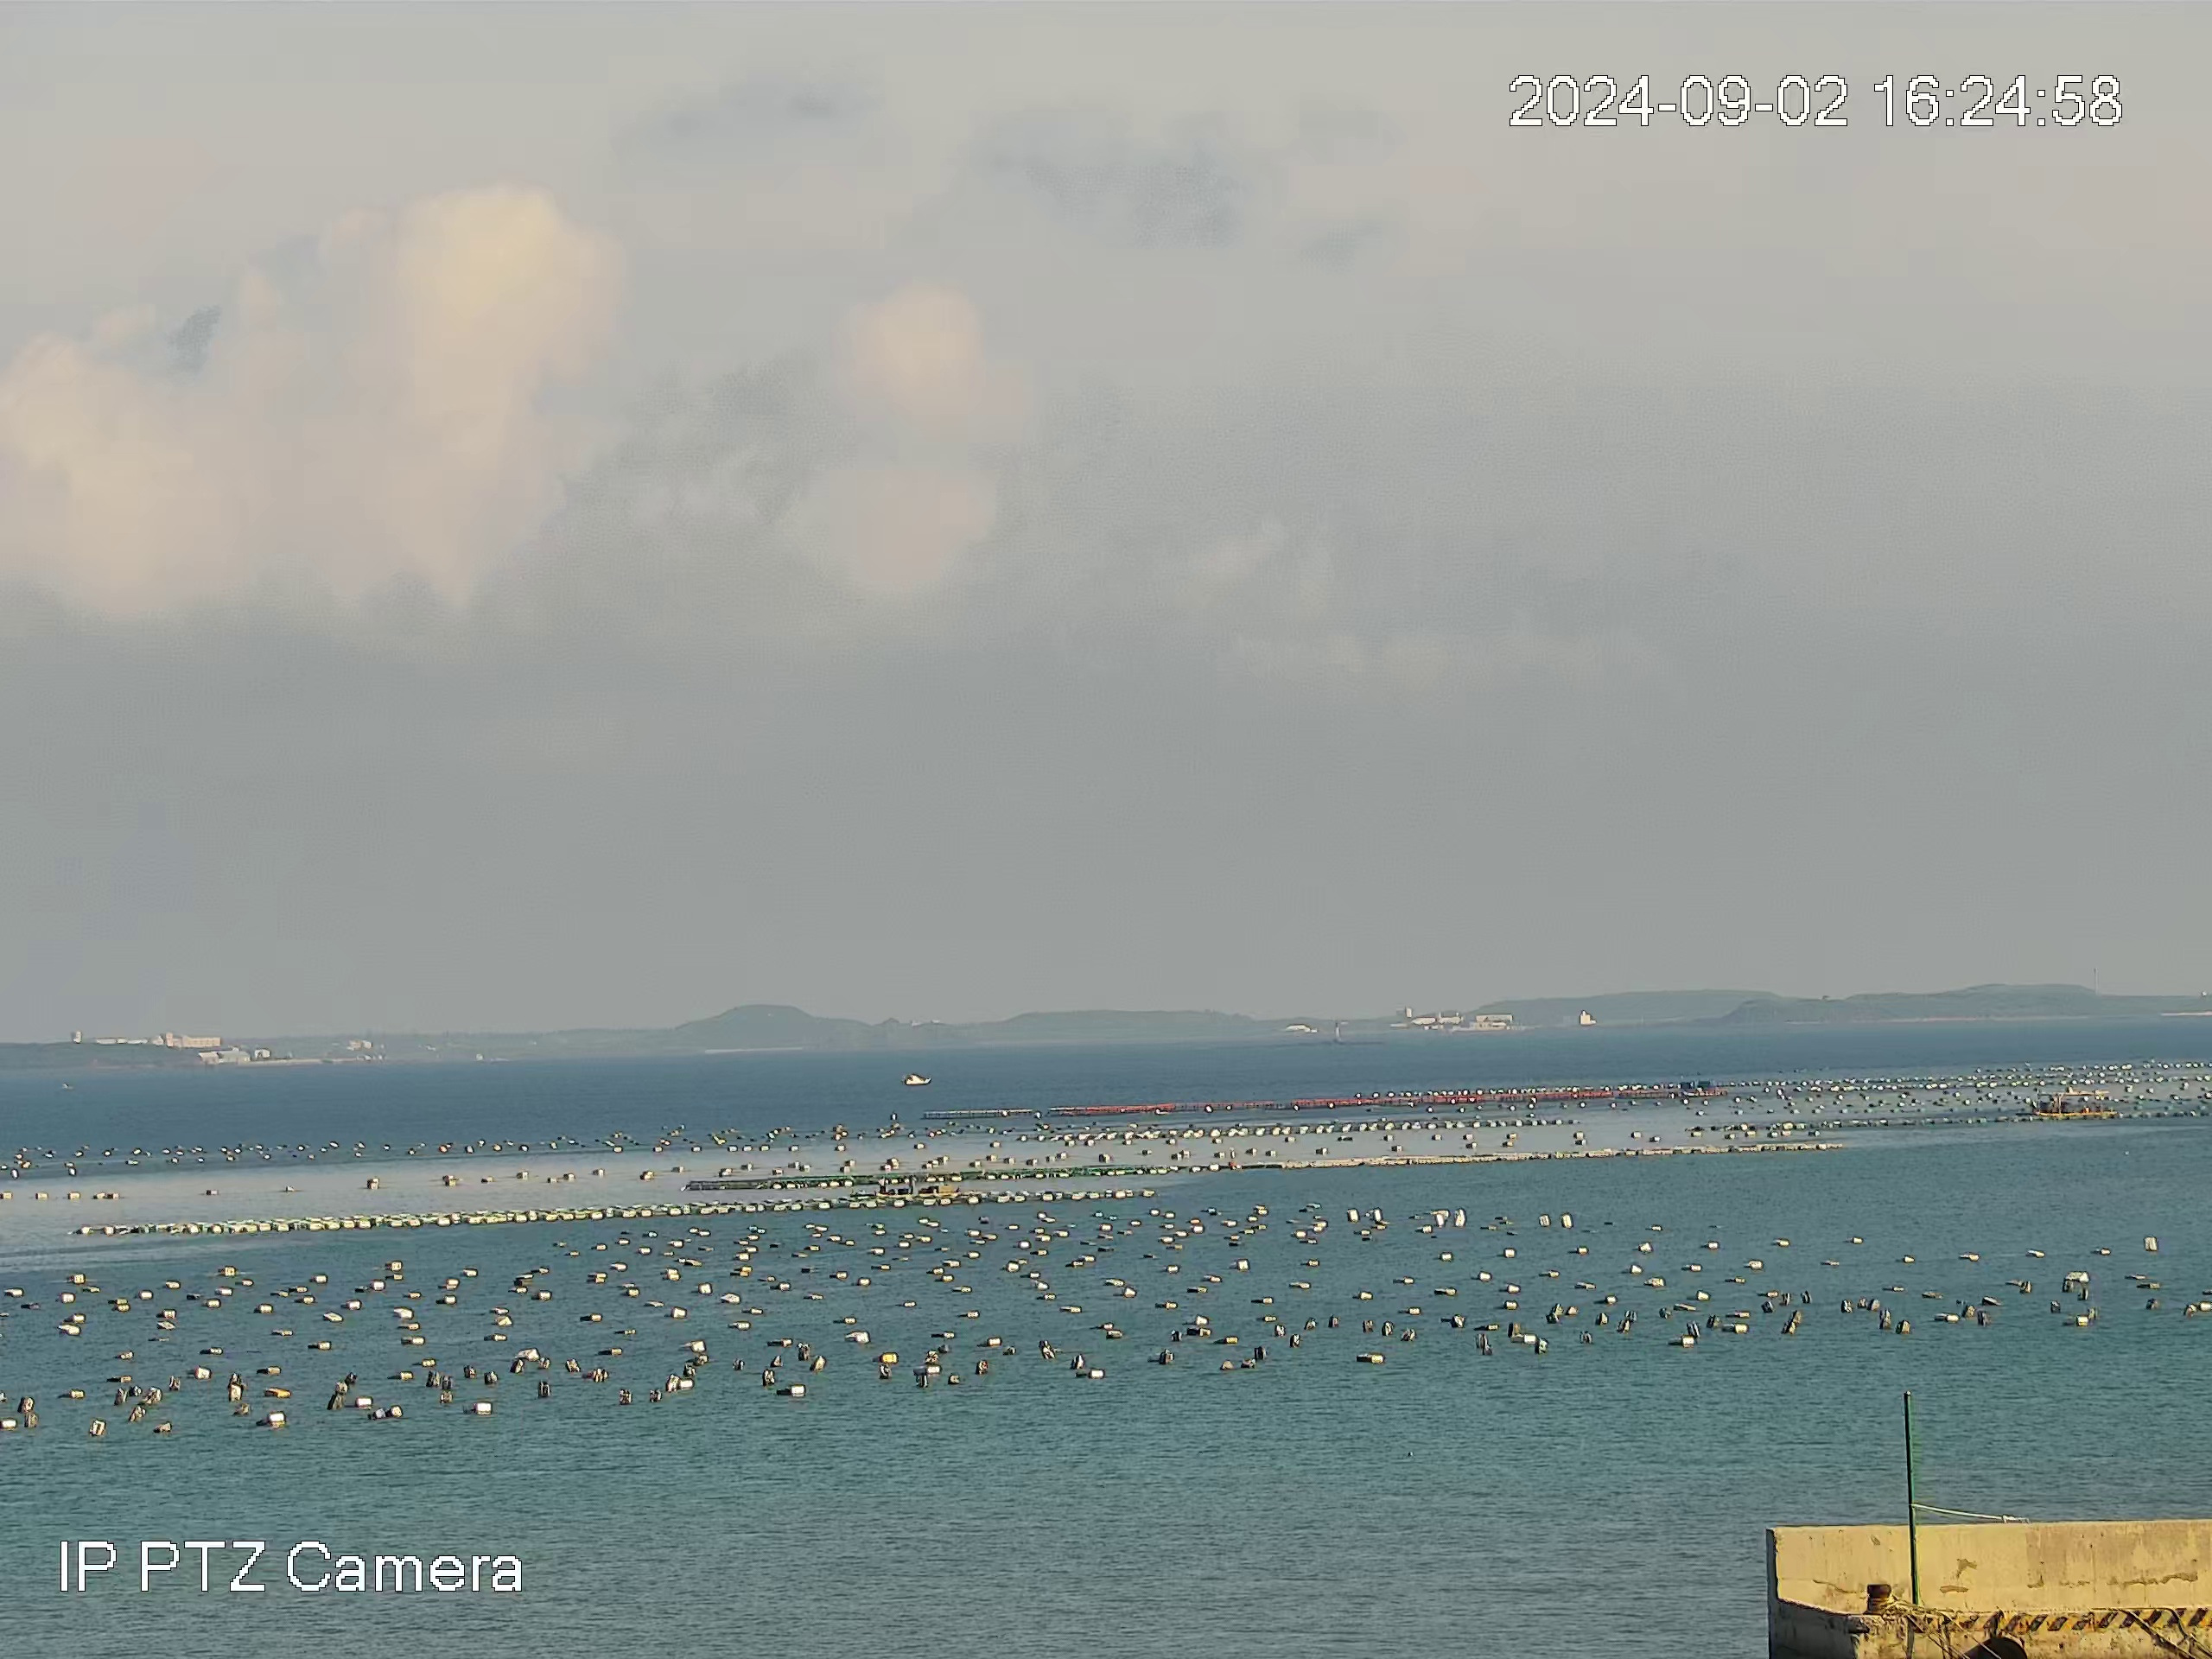boat: (2029, 1089, 2116, 1117), (873, 1176, 958, 1199), (902, 1072, 934, 1087)
